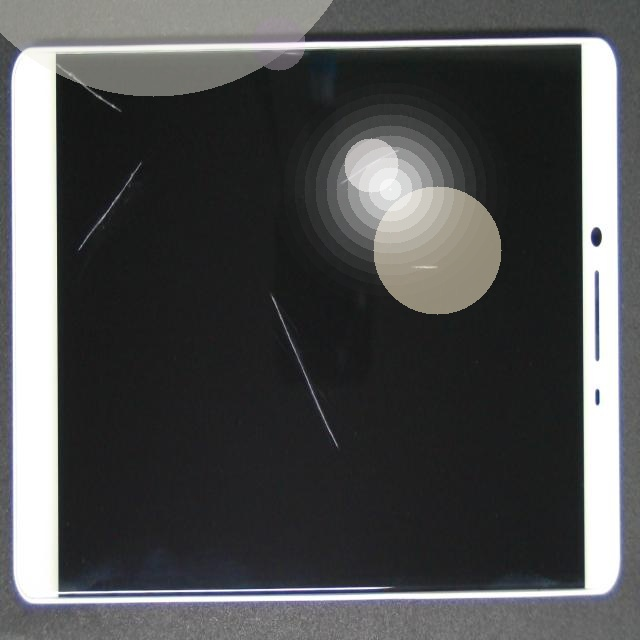scratch: (238, 126, 640, 383), (216, 328, 491, 600), (206, 85, 603, 215), (112, 19, 177, 266), (11, 0, 94, 106)
